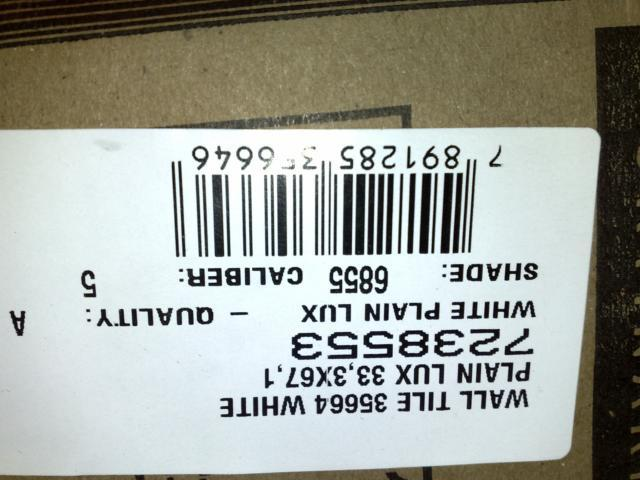Barcode: (151, 129, 519, 263)
